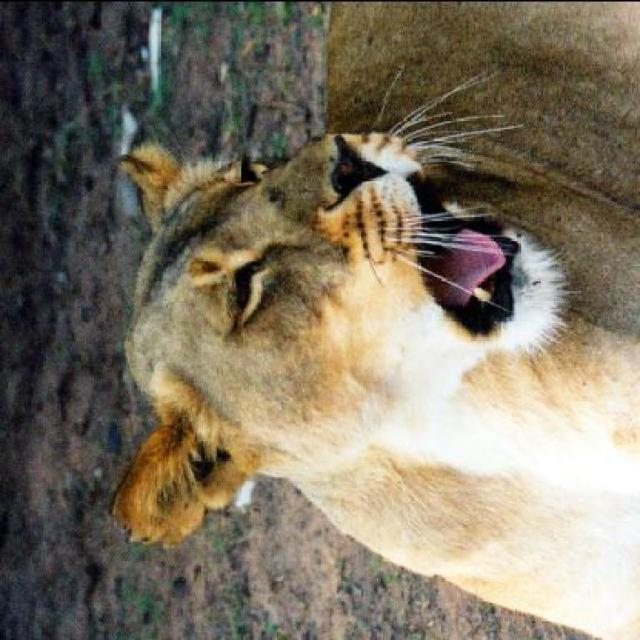Lion: (83, 4, 639, 638)
